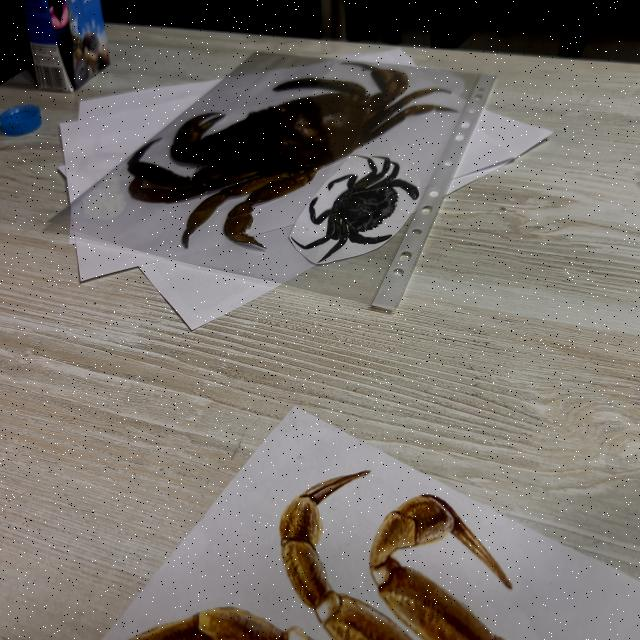European_Green_Crab: (288, 123, 422, 304)
